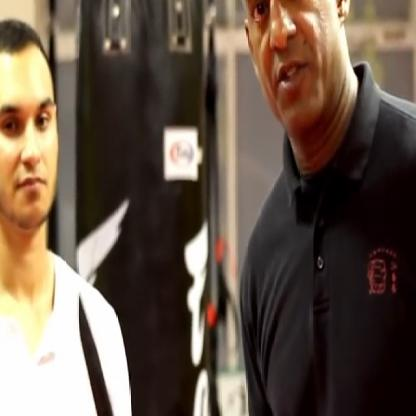knife: (72, 285, 158, 415)
